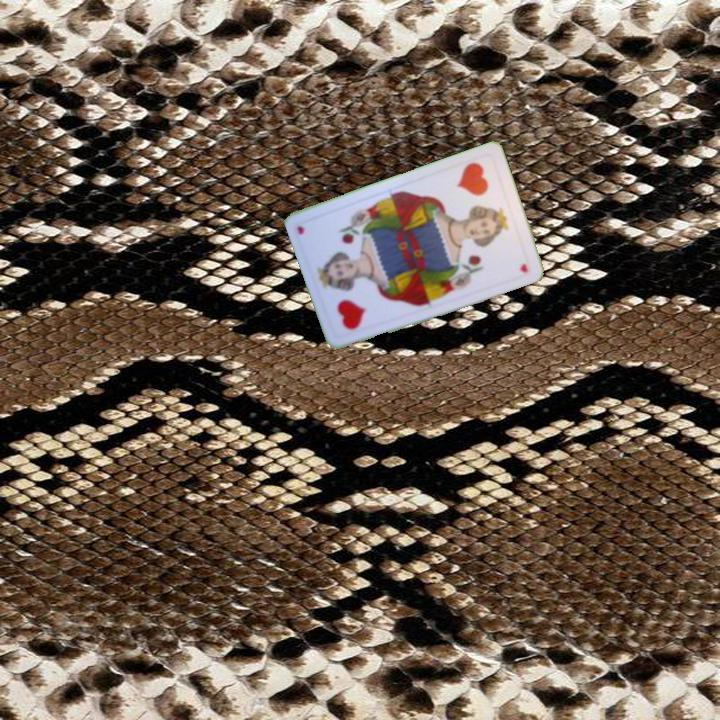h_q.png: (315, 260, 390, 341), (439, 152, 514, 232)
